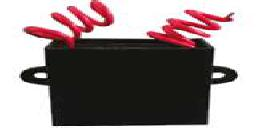Electrolytic-Capacitor: (19, 1, 239, 128)
